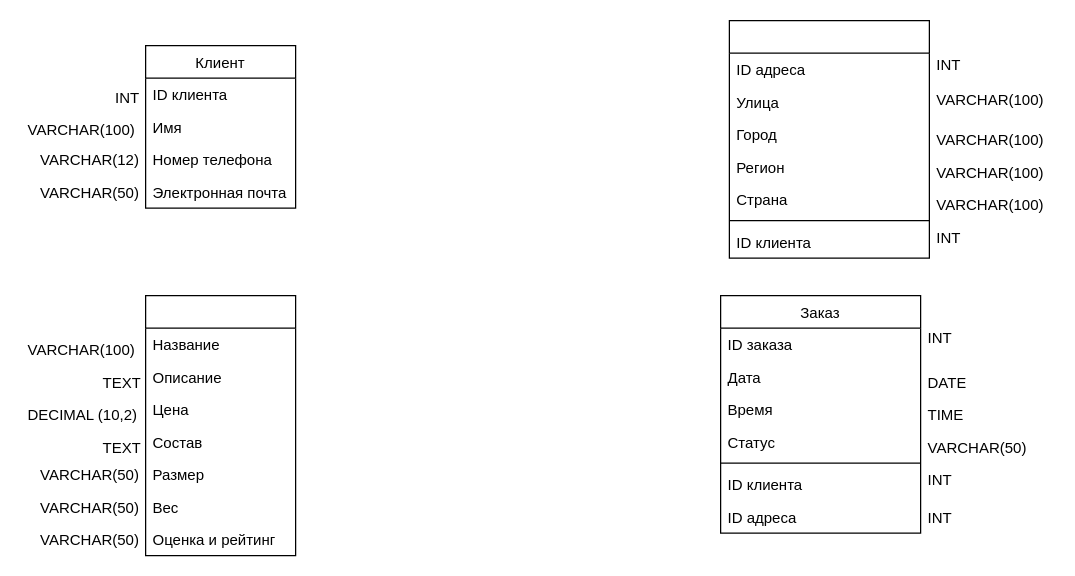
The diagram is 1075 pixels wide and 576 high, and some of its shapes have lost their labels. Here are the shapes that lost their labels. From the top down, the box of each, then its label:
(728, 19, 929, 258): Адрес заказа
(144, 294, 296, 556): Товар
